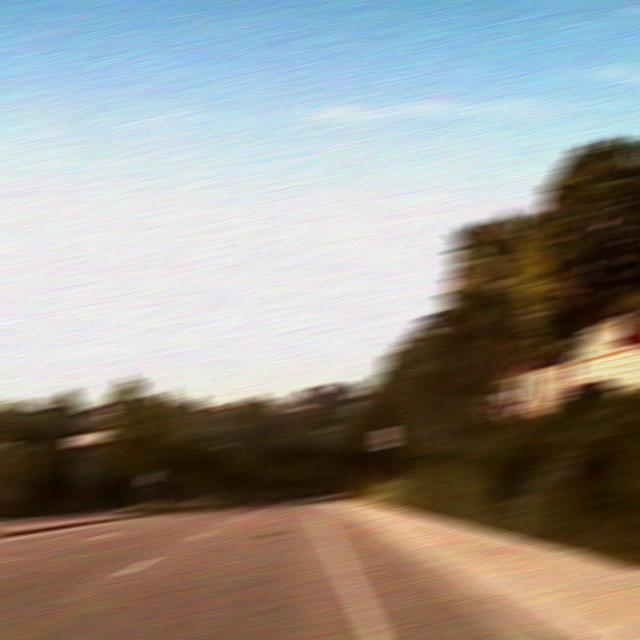speedLimit45: (374, 426, 397, 449)
